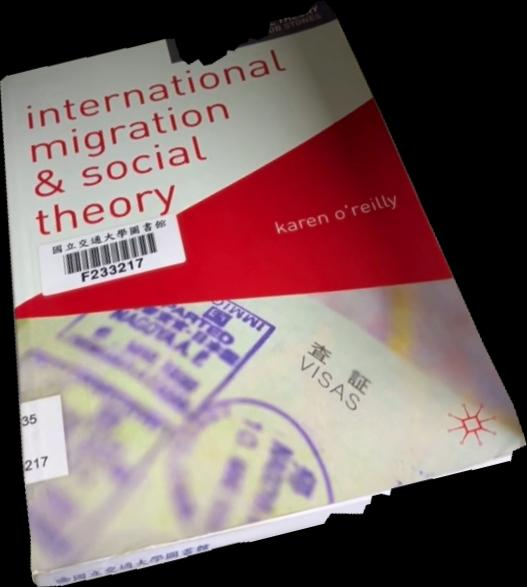flat: (1, 1, 527, 587)
